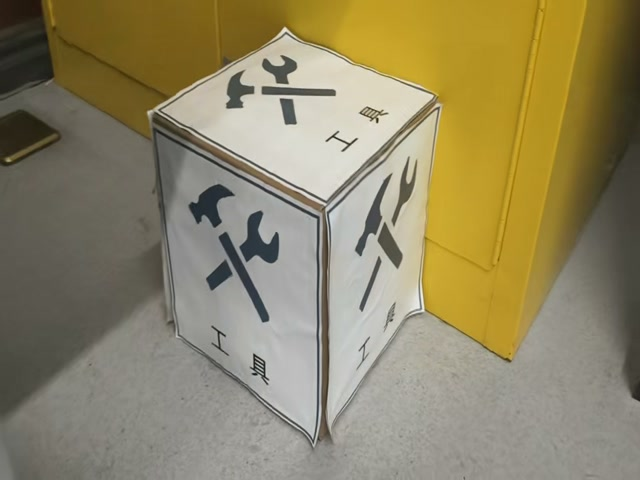Cube_tool: (147, 28, 436, 211)
